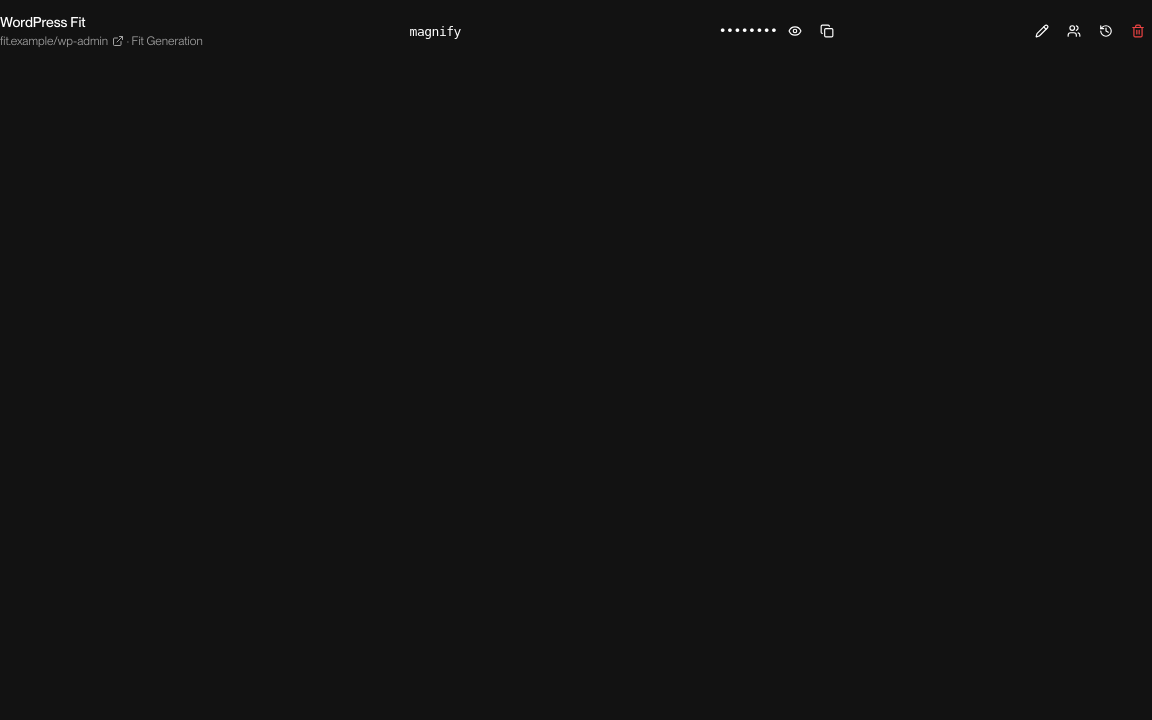
Test case: admins get the access log and delete; managers get edit and share
The width and height of the screenshot is (1152, 720).
Click the button named "Registro de WordPress Fit" at point(1106, 30), box [1092,16,1120,44]
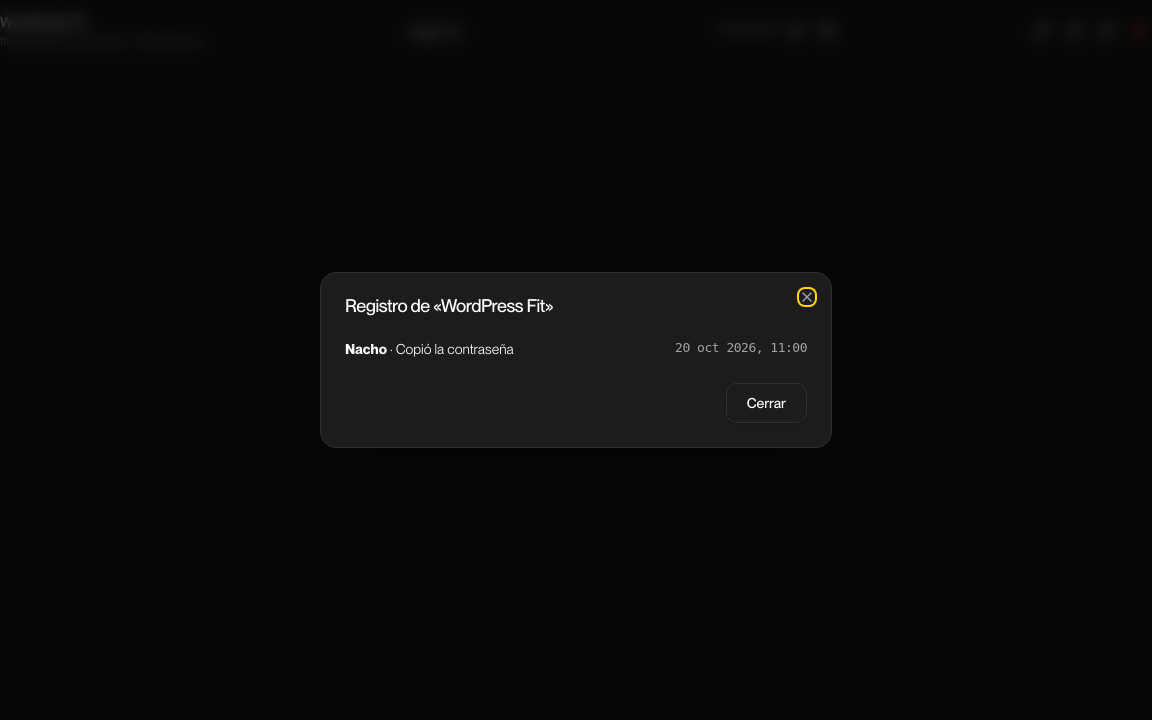
Result: the text "Nacho" is shown at [345,341,387,357]
Result: the text "Nacho · Copió la contraseña" is shown at [345,339,514,359]
